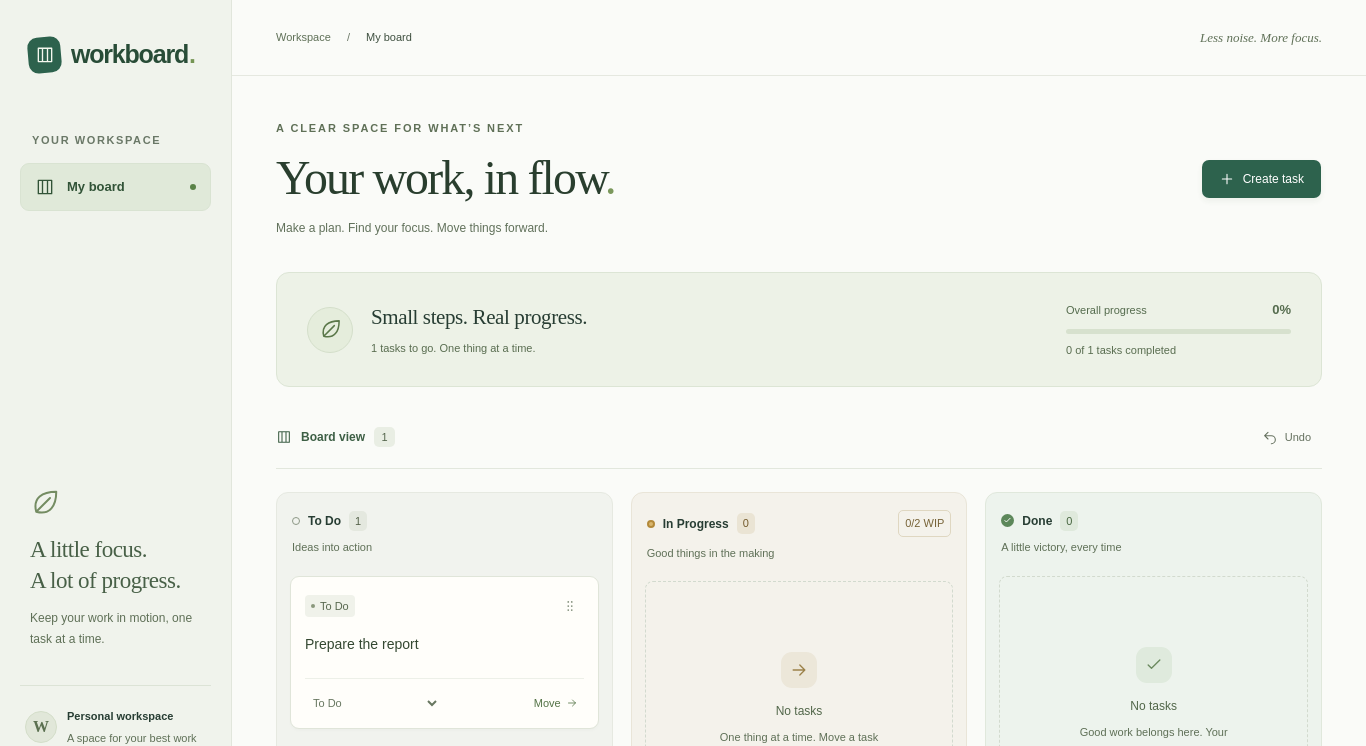
Test case: BoardView › shows nothing_to_undo and keeps the returned board
Click the button "Undo" at (1286, 437), box [1251, 421, 1322, 453]
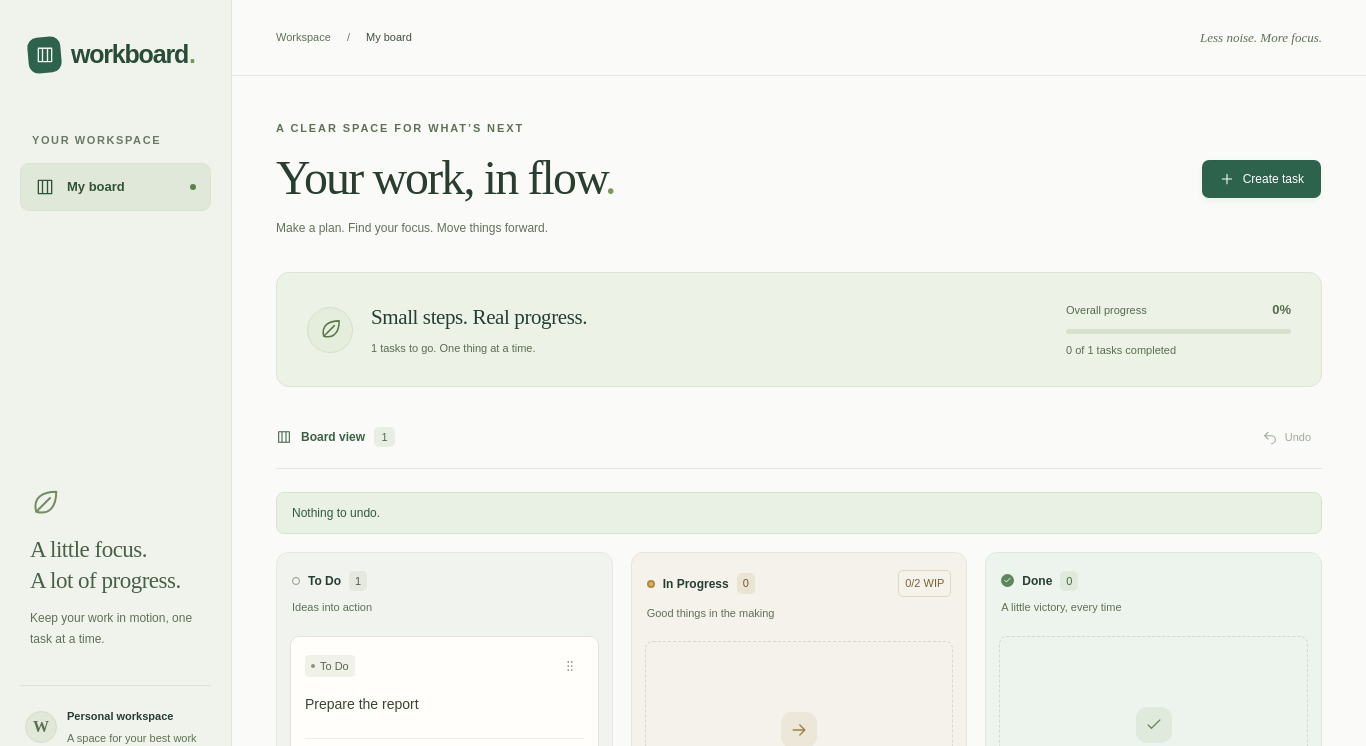
Check: the heading "Prepare the report" is shown, box [305, 696, 419, 712]
Check: the text "Nothing to undo." is shown, box [276, 492, 1322, 534]
Check: the button "Undo" is disabled, box [1251, 421, 1322, 453]
